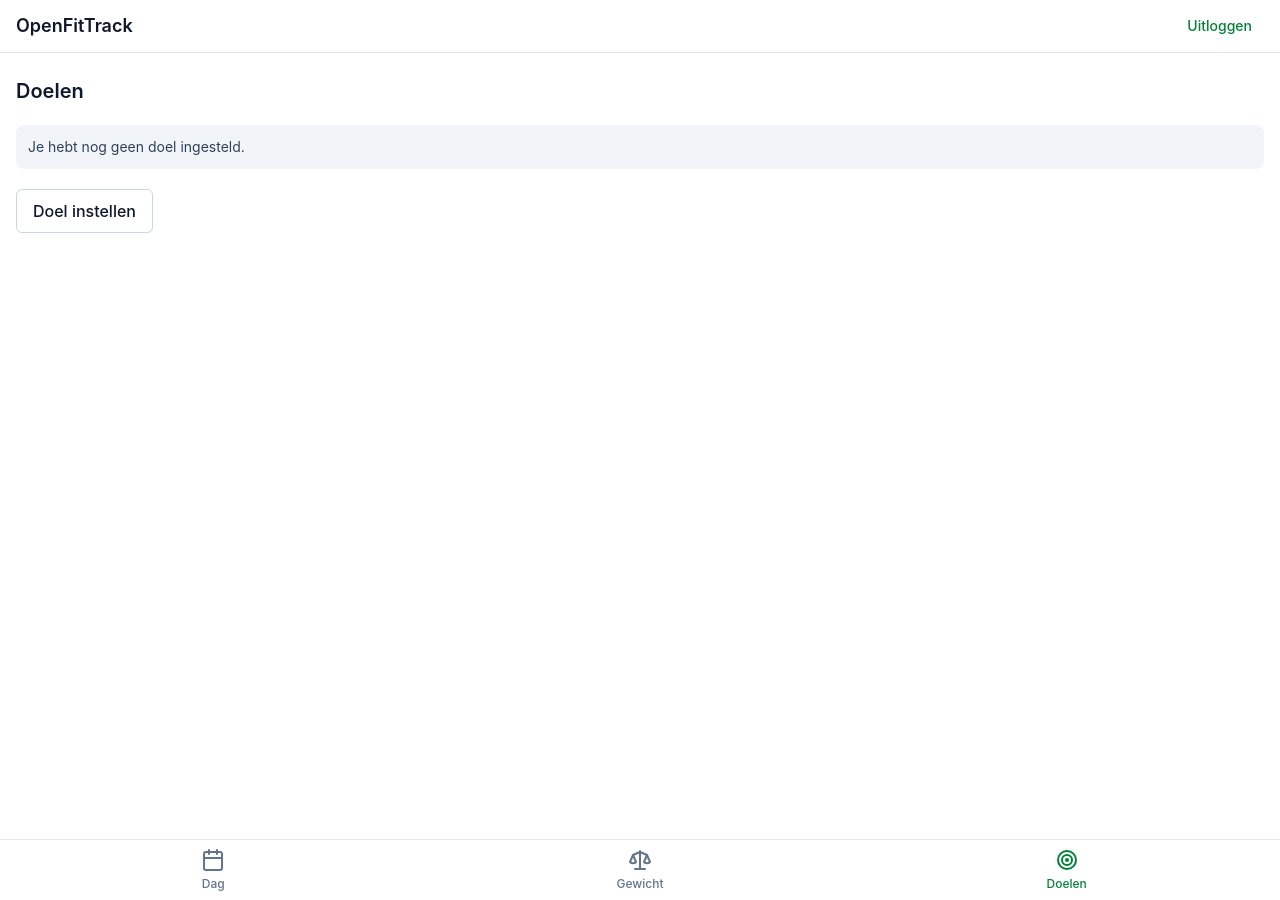
Test: setting a goal › can set a first goal without a target weight
Click the button "Doel instellen" at coordinates (84, 211), box x1=16 y1=189 x2=153 y2=233
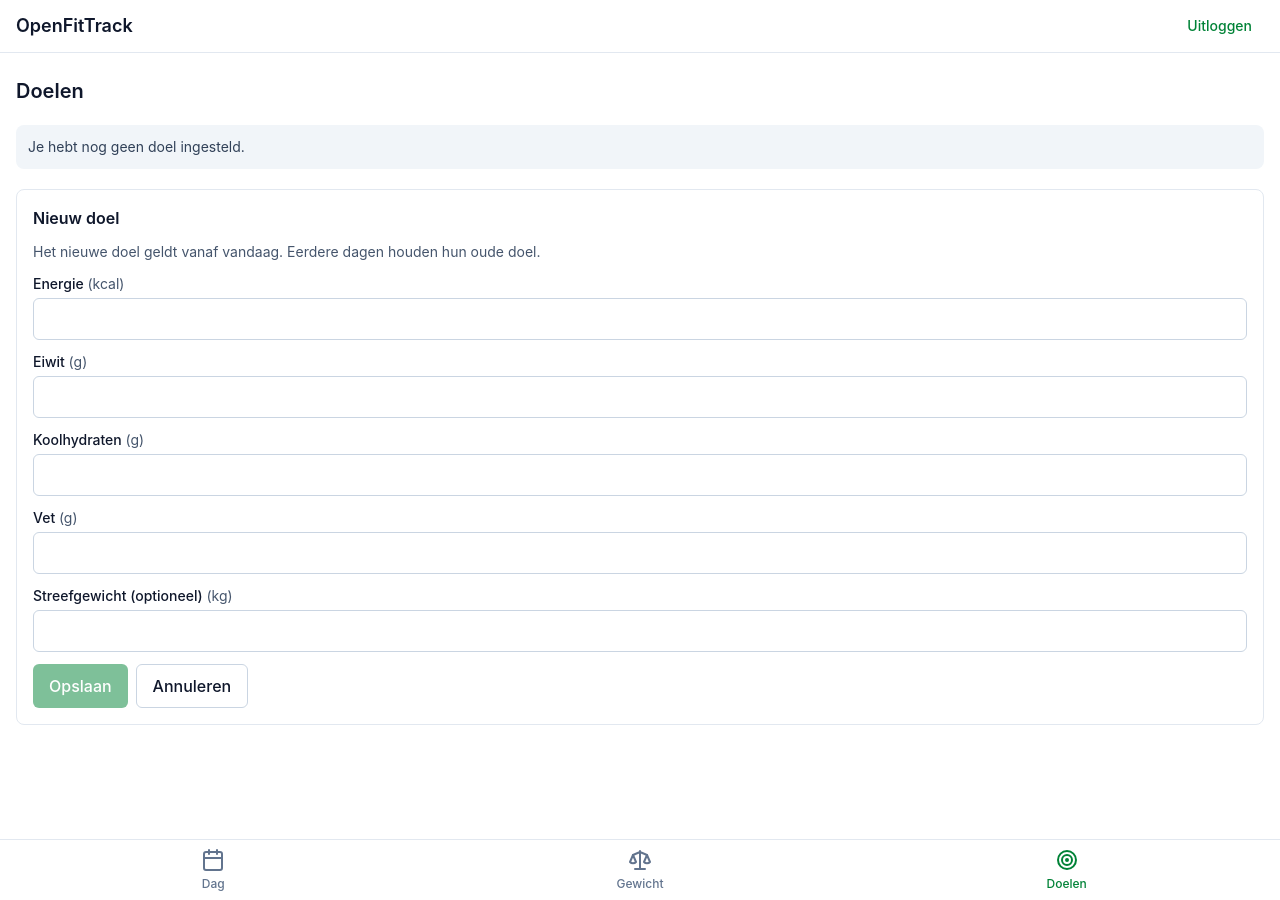
Type "2200" into the field labelled "Energie (kcal)" at coordinates (640, 319), box x1=33 y1=298 x2=1247 y2=340
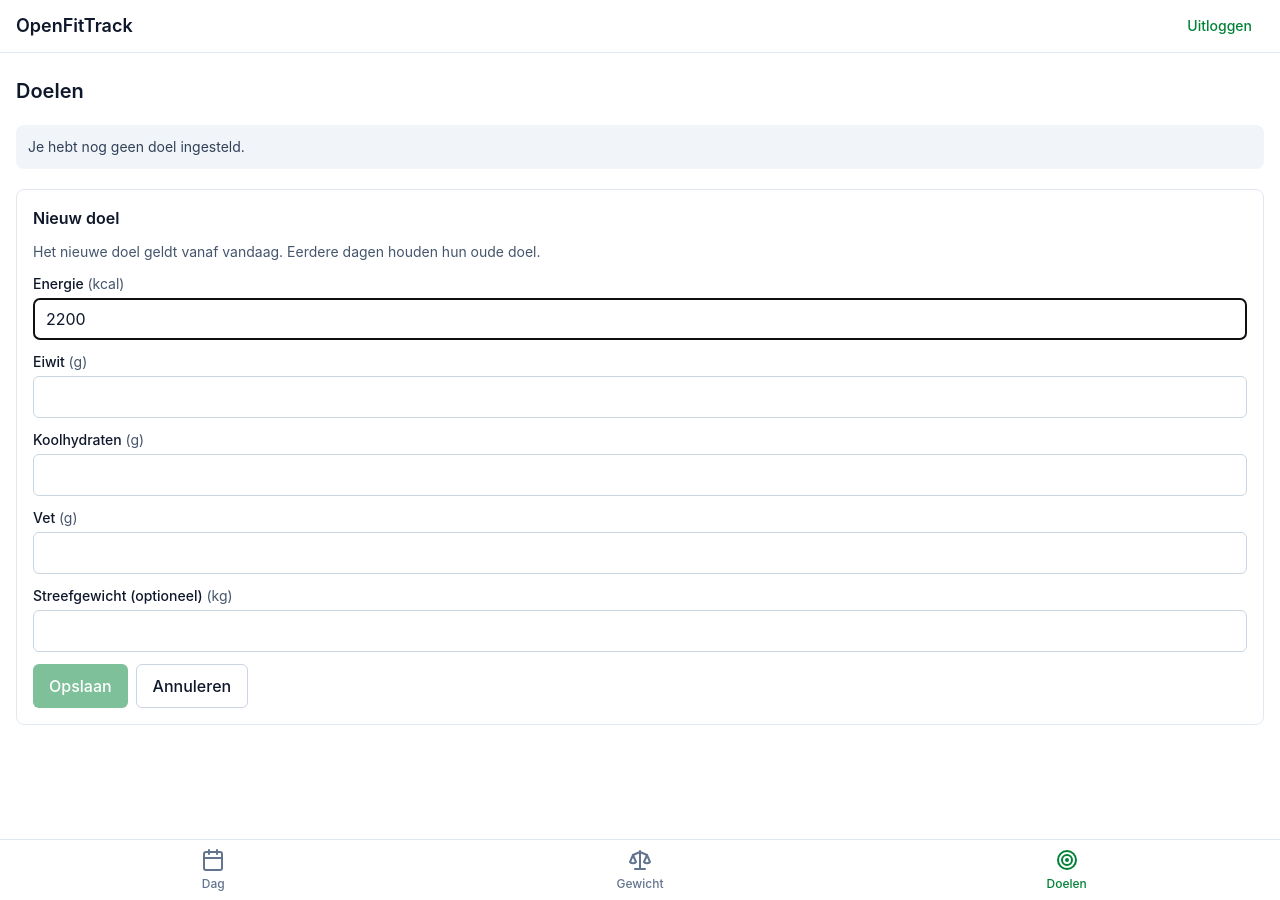
Type "150" into the field labelled "Eiwit (g)" at coordinates (640, 397), box x1=33 y1=376 x2=1247 y2=418
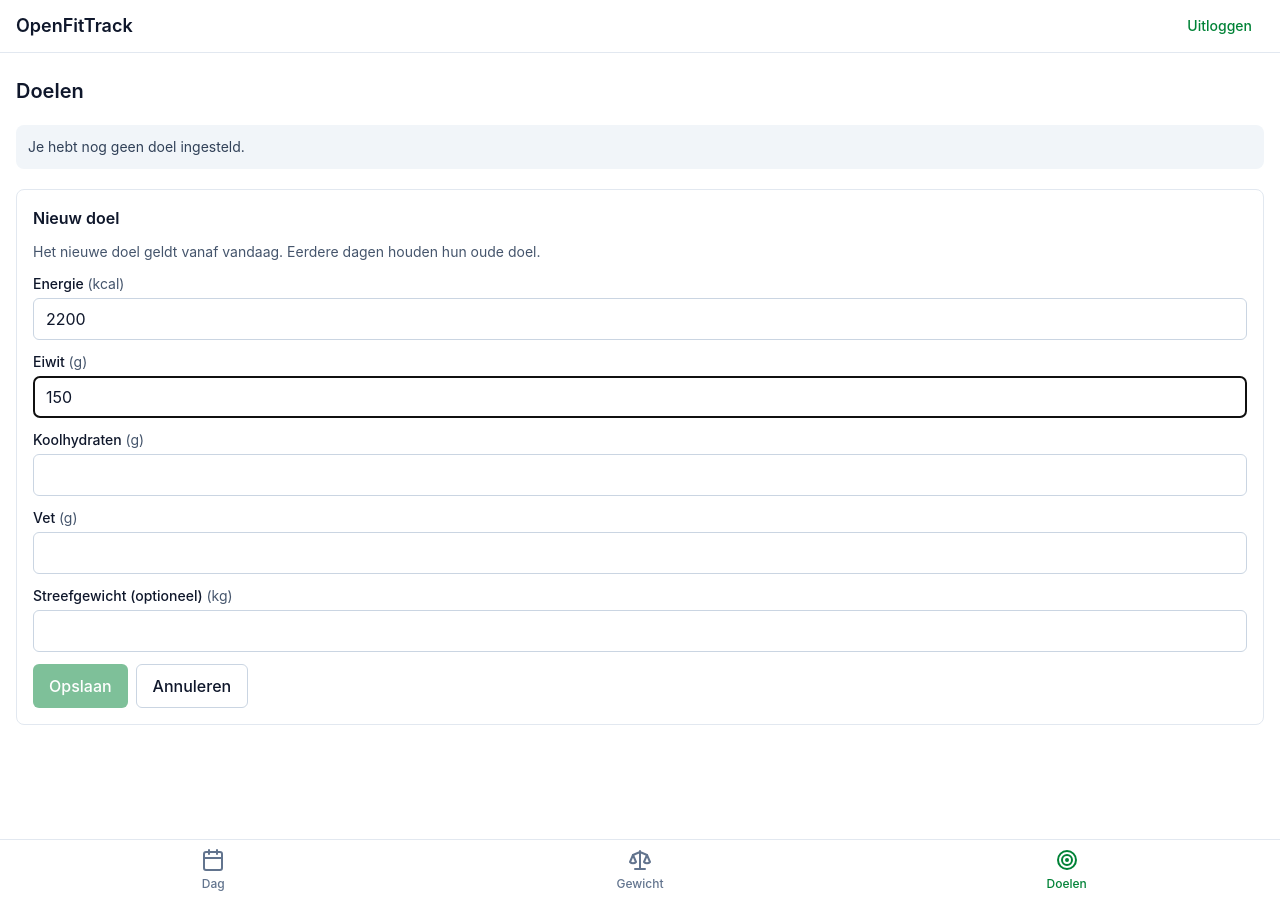
Type "250" into the field labelled "Koolhydraten (g)" at coordinates (640, 475), box x1=33 y1=454 x2=1247 y2=496
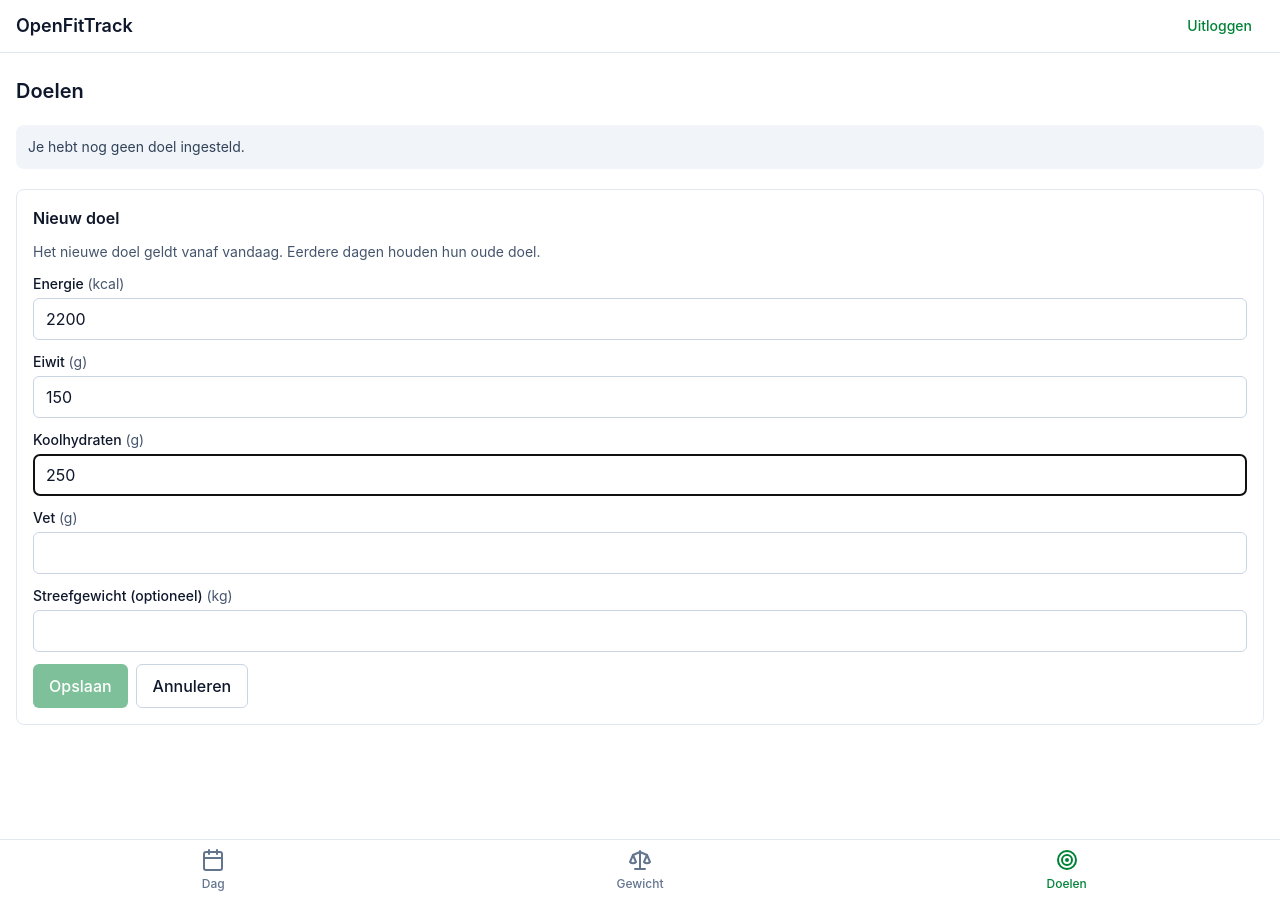
Type "70" into the field labelled "Vet (g)" at coordinates (640, 553), box x1=33 y1=532 x2=1247 y2=574
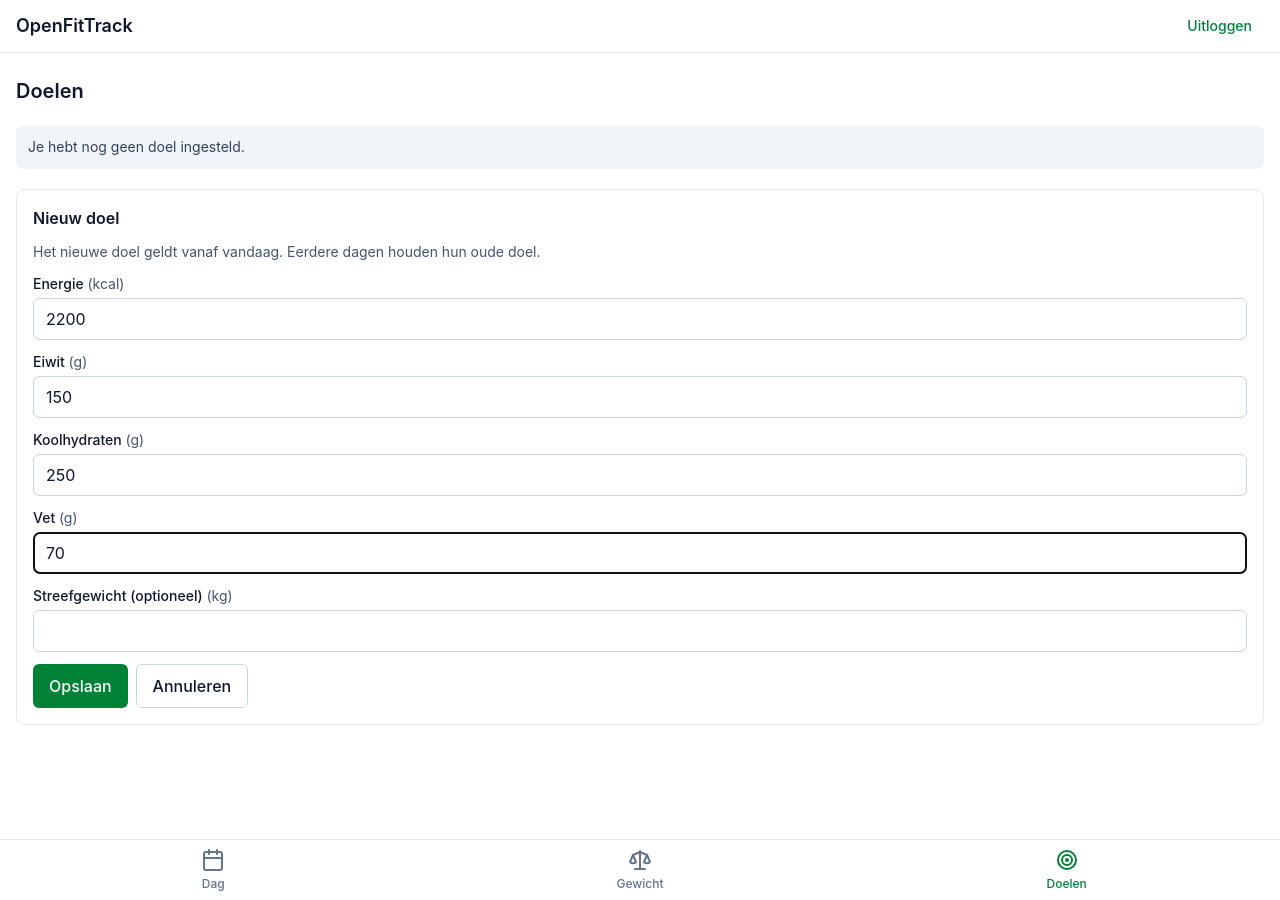
Click the button "Opslaan" at coordinates (80, 686), box x1=33 y1=664 x2=128 y2=708
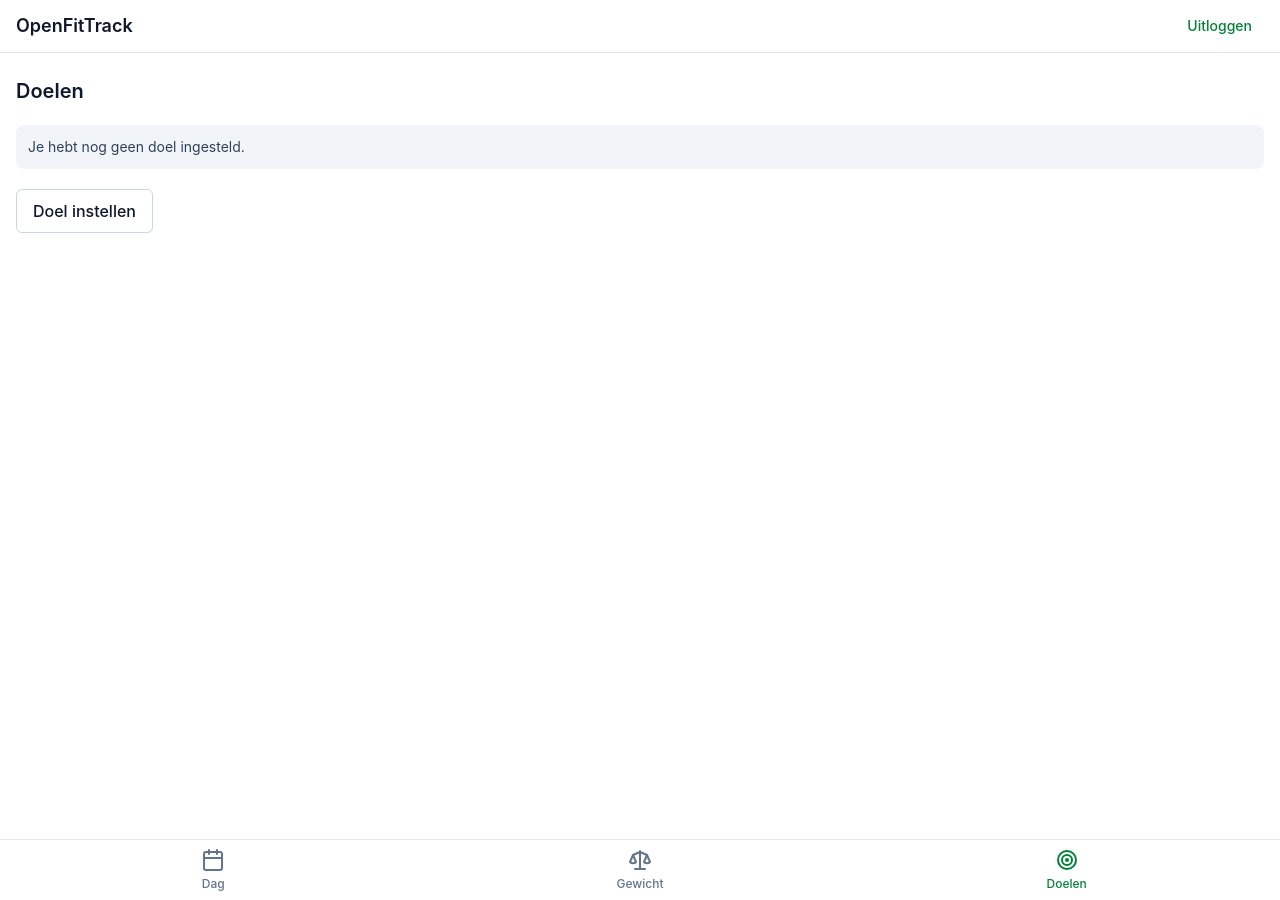
Check: the button "Doel instellen" is shown, box x1=16 y1=189 x2=153 y2=233
